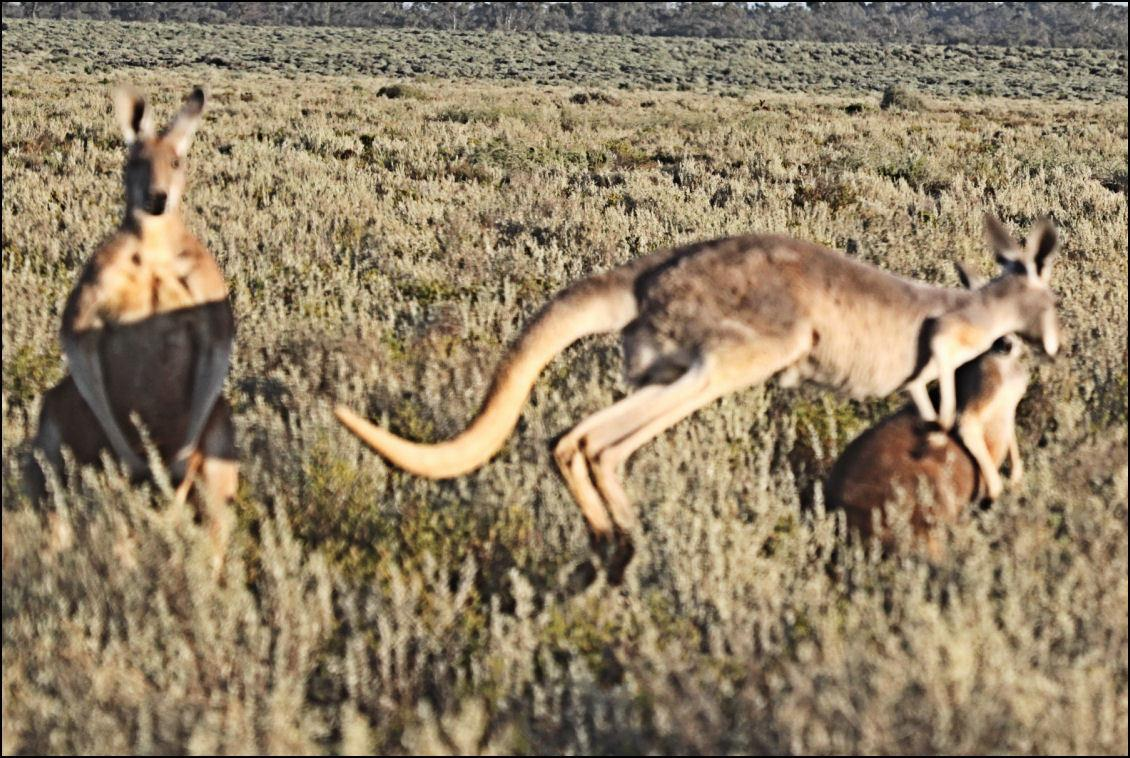Red kangaroo: (323, 184, 1097, 608), (8, 81, 239, 516), (826, 259, 1058, 579)
